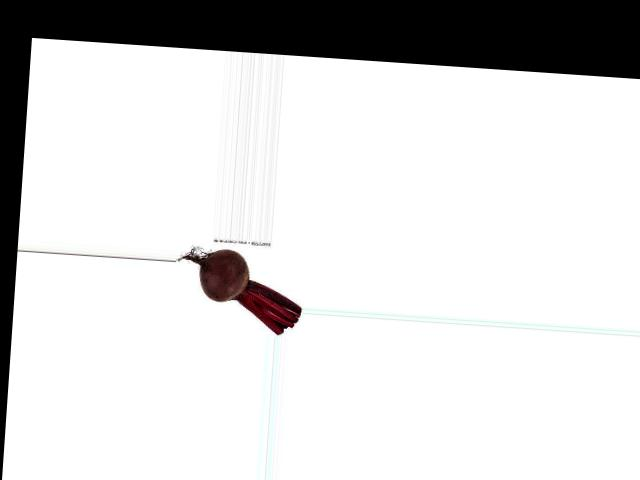beet: (173, 246, 305, 335)
